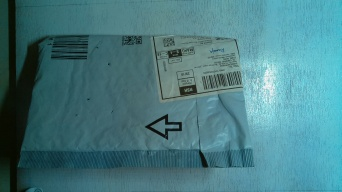a: (22, 33, 258, 172)
